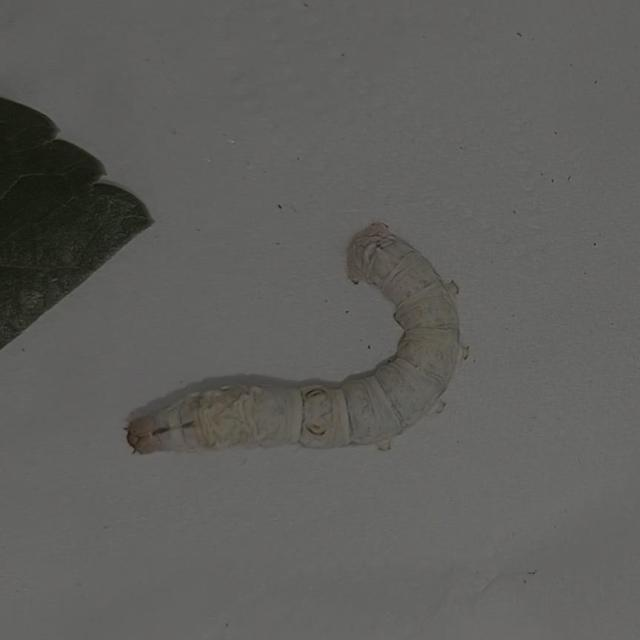Healthy: (116, 197, 489, 494)
